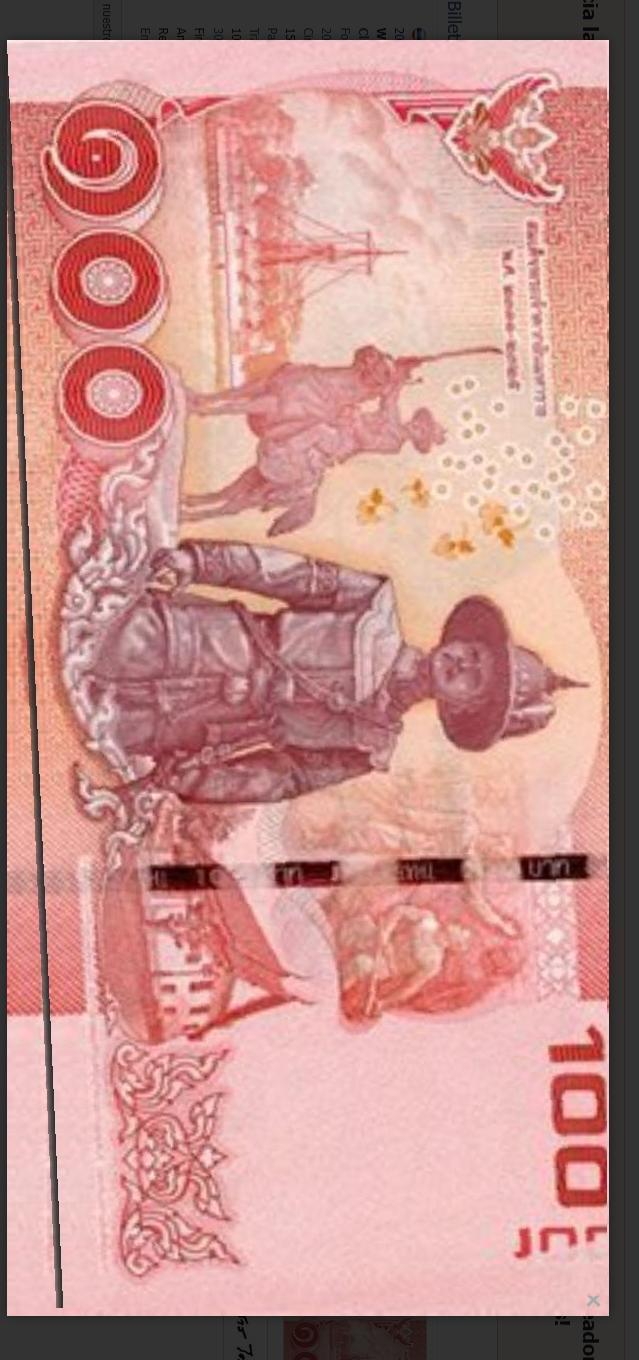100BahtTai: (0, 41, 607, 1308)
